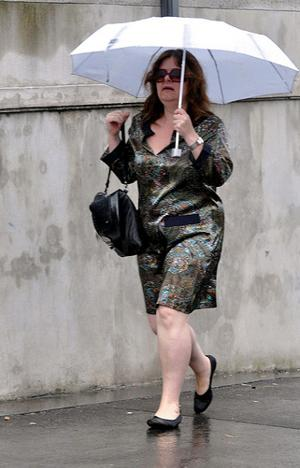person: (102, 50, 233, 433)
